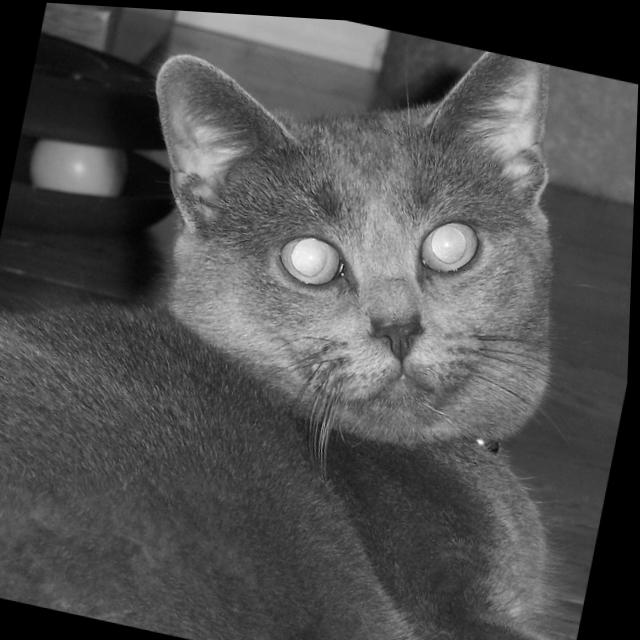animals: (126, 6, 565, 372)
